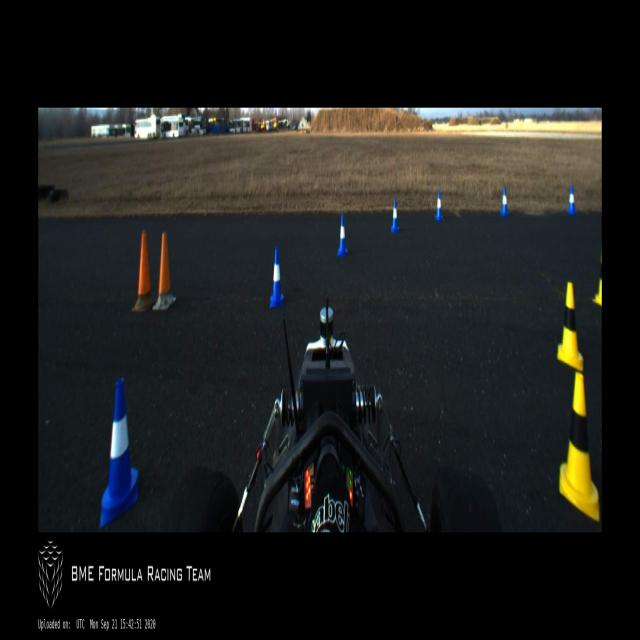blue_cone: (100, 378, 138, 530), (270, 246, 284, 309), (336, 213, 348, 256), (390, 197, 400, 234), (567, 187, 576, 216), (435, 190, 443, 222), (501, 188, 509, 218)
yellow_cone: (559, 372, 600, 520), (557, 282, 584, 372)
